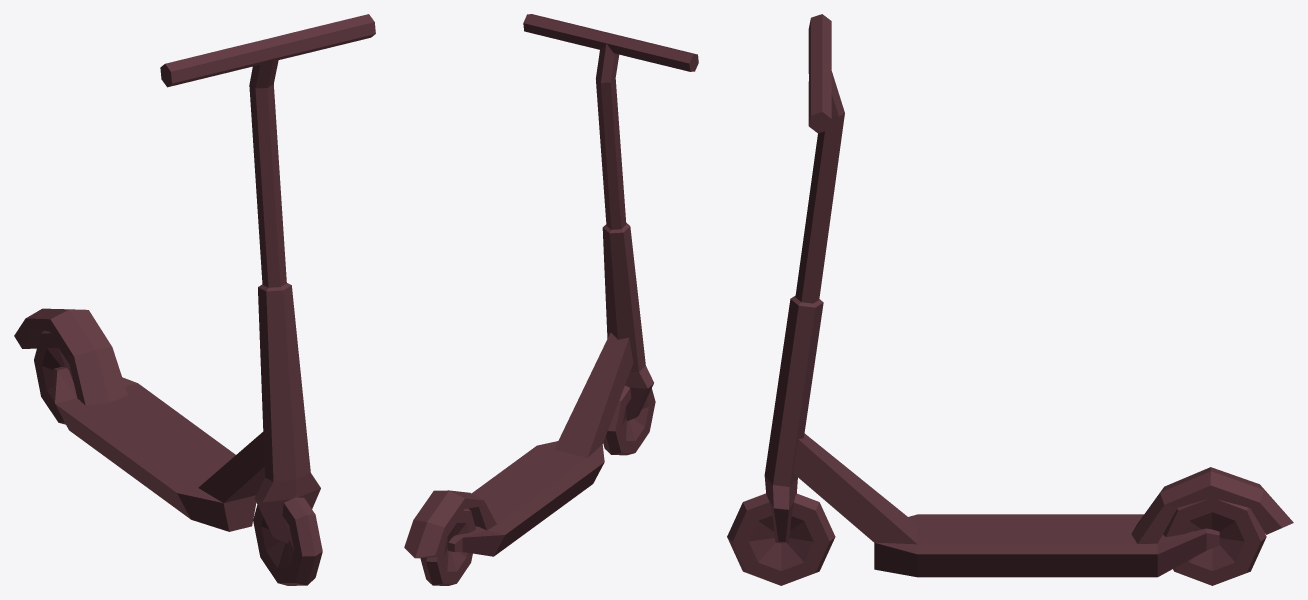
File: scooter-kick.fbx
The picture shows the model from 3 angles, left to right: view 1: azimuth 30°, elevation 25°; view 2: azimuth 150°, elevation 25°; view 3: azimuth 270°, elevation 25°; orthographic projection. The views are drawn at different scales.
Parts seen in each view (by area): view 1: scooter-kick; view 2: scooter-kick; view 3: scooter-kick.
Boxes of the visible parts, bbox=[...] form: scooter-kick: bbox=[14, 14, 375, 585]; scooter-kick: bbox=[404, 14, 698, 585]; scooter-kick: bbox=[727, 14, 1293, 585].
Size of the model in its own units: 0.4695 by 1.17 by 1.15.
